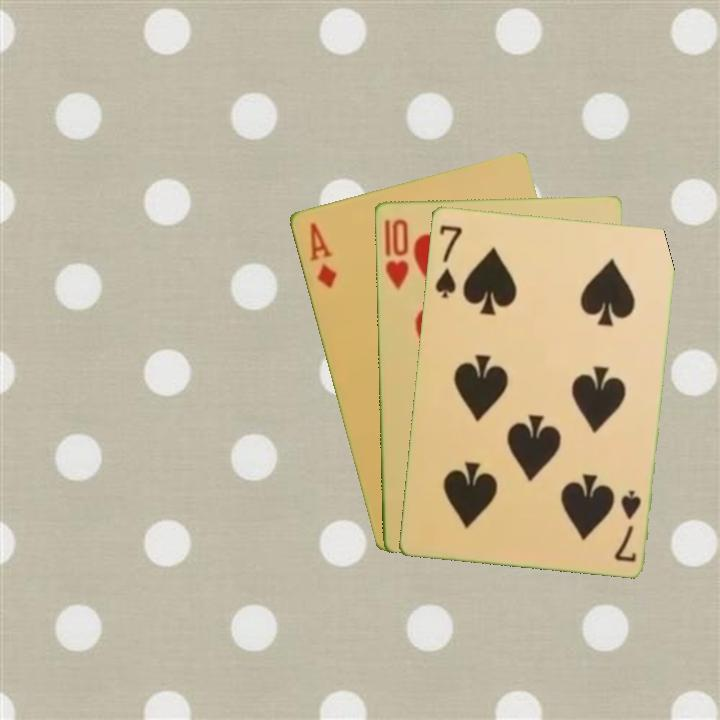10h: (381, 215, 411, 292)
7s: (431, 220, 465, 300), (610, 486, 644, 564)
Ad: (305, 219, 340, 291)
